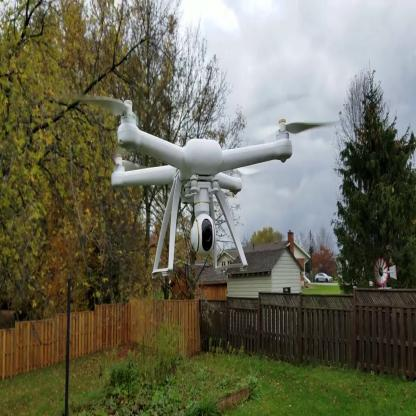drone: (70, 76, 339, 233)
